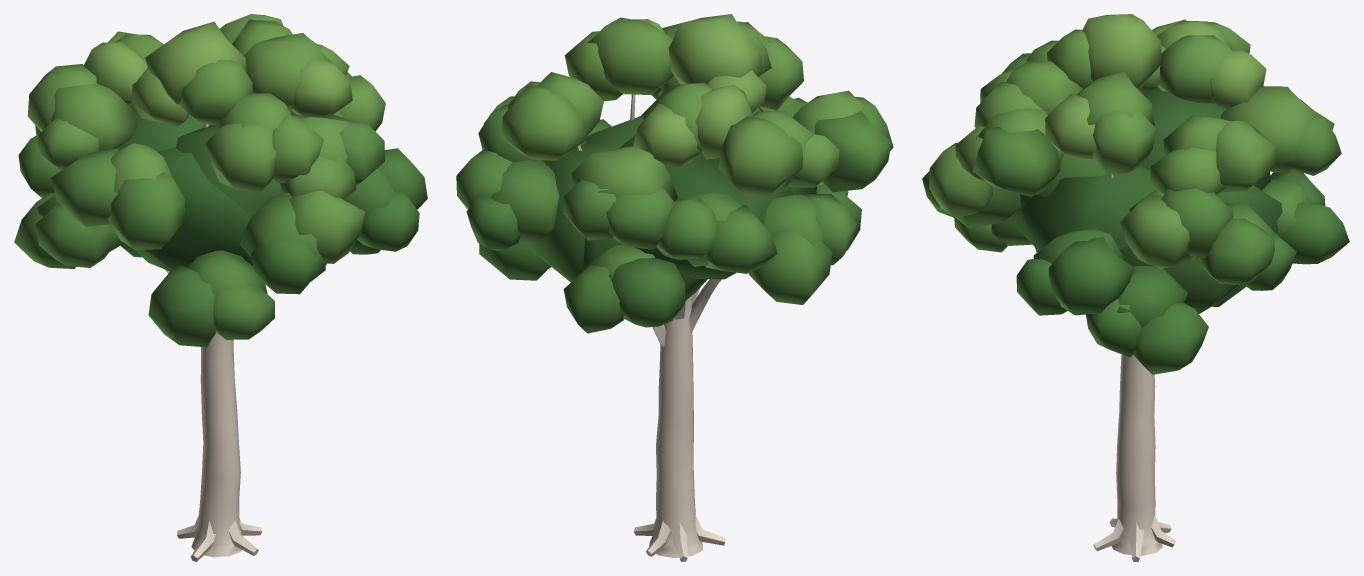
File: maple.glb
3 renders of one model, left to right at view 1: azimuth 30°, elevation 25°; view 2: azimuth 150°, elevation 25°; view 3: azimuth 270°, elevation 25°, orthographic. The views are drawn at different scales.
Parts seen in each view (by area): view 1: maple; view 2: maple; view 3: maple.
Boxes of the visible parts, left/top/right/bottom form: maple: left=14, top=14, right=427, bottom=561; maple: left=456, top=14, right=893, bottom=561; maple: left=922, top=14, right=1349, bottom=561.
Size of the model in its own units: 5.09 by 7.15 by 5.38.
